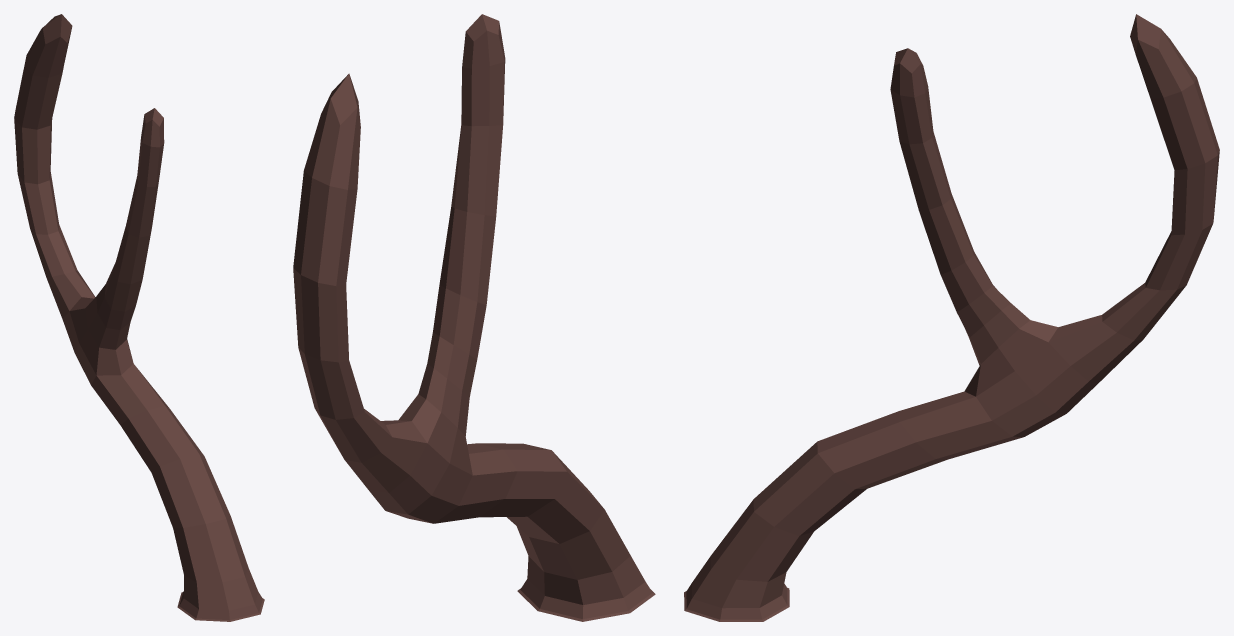
File: Willow_Dead_3.gltf
The picture shows the model from 3 angles, left to right: view 1: azimuth 30°, elevation 25°; view 2: azimuth 150°, elevation 25°; view 3: azimuth 270°, elevation 25°; orthographic projection. The views are drawn at different scales.
Visible parts, largest first — view 1: Willow_Dead_3; view 2: Willow_Dead_3; view 3: Willow_Dead_3.
Boxes of the visible parts, x1,y1,x2,y2 form: Willow_Dead_3: [14, 14, 264, 621]; Willow_Dead_3: [293, 14, 655, 621]; Willow_Dead_3: [684, 14, 1219, 621].
Bounding box in the file's own units: 0.3109 × 1.91 × 1.58.
